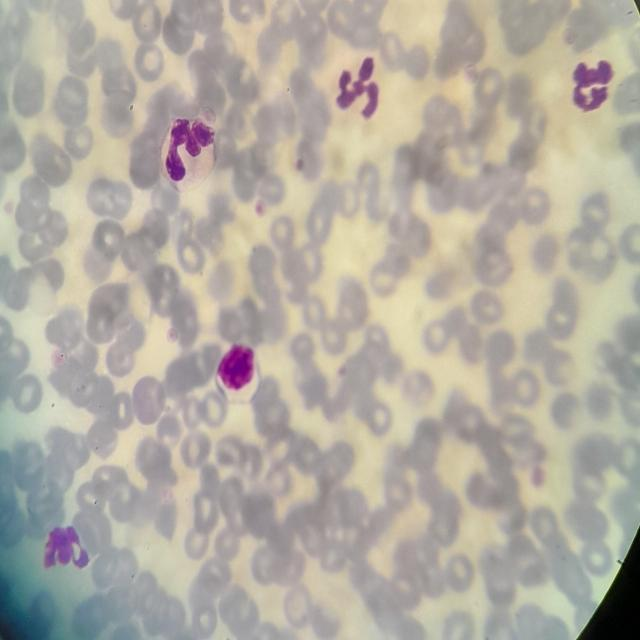Neutrofilos: (159, 112, 222, 190), (561, 51, 624, 125), (330, 52, 385, 124), (212, 341, 268, 405), (36, 516, 96, 573)
